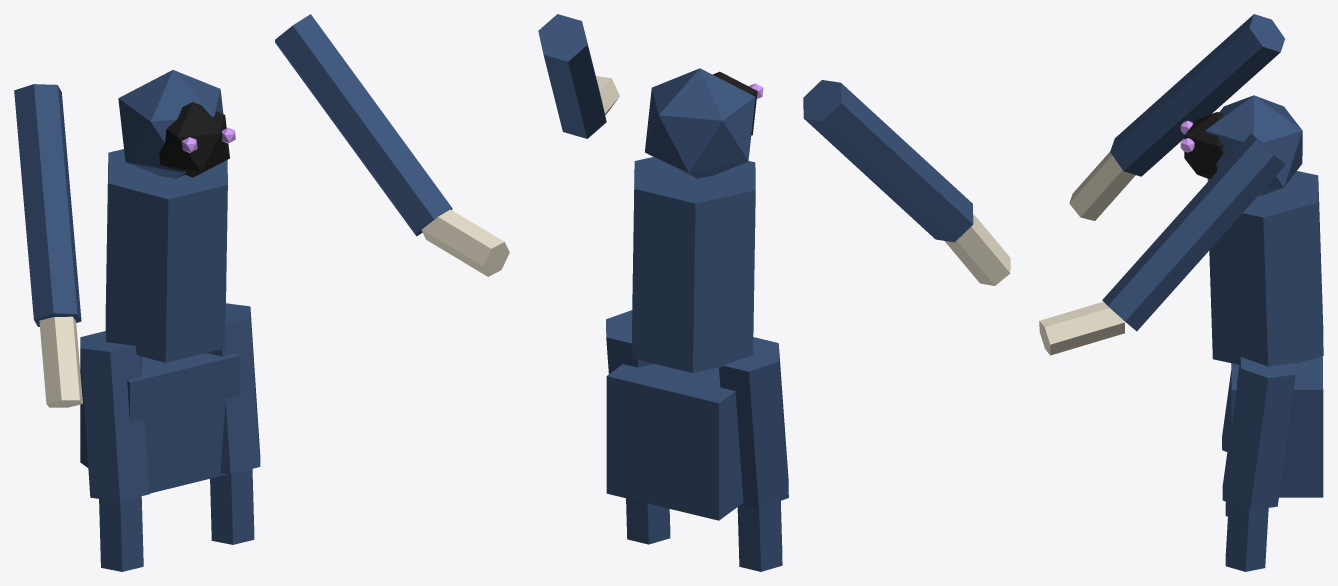
File: npcpose_wraith_attack_11.glb
3 renders of one model, left to right at view 1: azimuth 30°, elevation 25°; view 2: azimuth 150°, elevation 25°; view 3: azimuth 270°, elevation 25°, orthographic. The views are drawn at different scales.
Visible parts, largest first — view 1: npcpose; view 2: npcpose; view 3: npcpose.
Part boxes in pixels (left/top/right/bottom): npcpose: left=14, top=14, right=509, bottom=571; npcpose: left=538, top=14, right=1010, bottom=571; npcpose: left=1039, top=14, right=1323, bottom=571.
Size of the model in its own units: 1.04 by 1.12 by 0.622.
